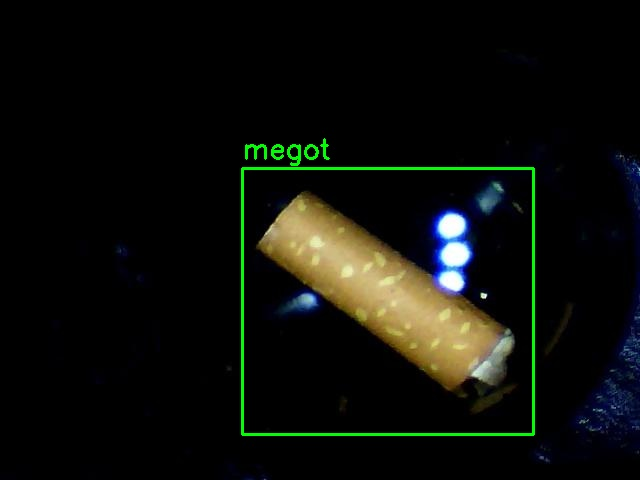megot: (242, 168, 533, 434)
